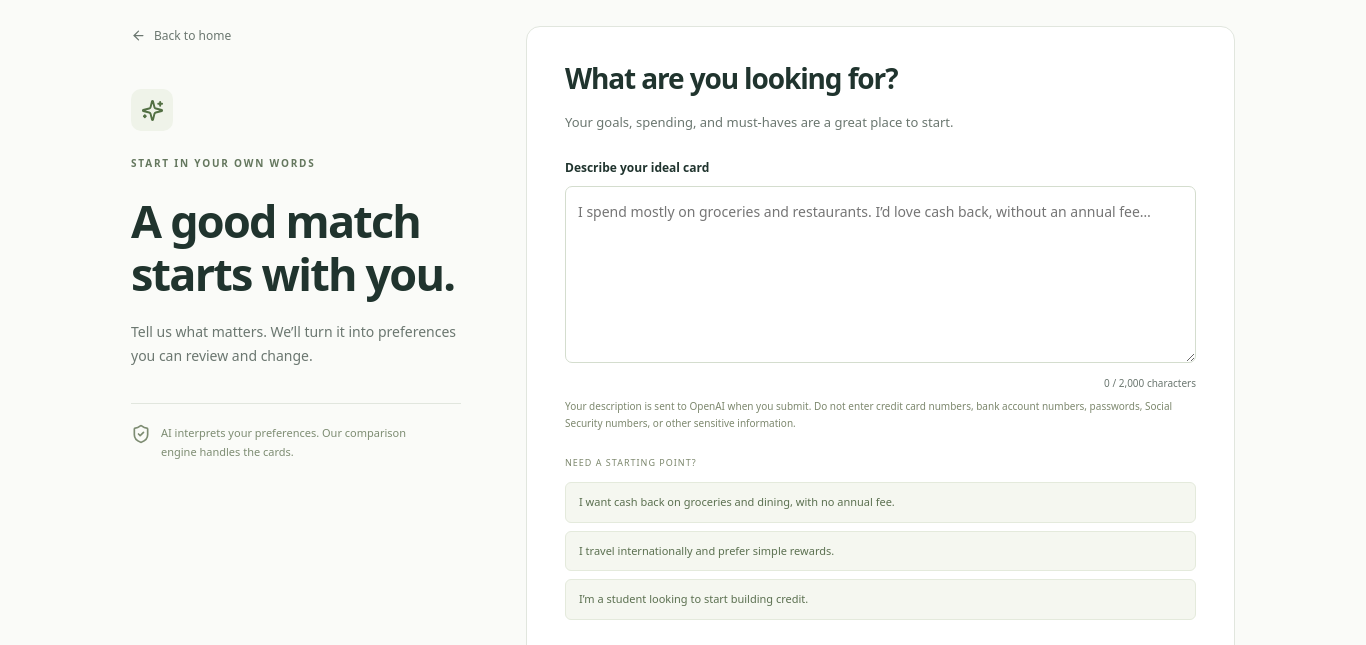
Test: provider error preserves the prompt and offers a fallback
Type "I want cash back and no annual fee" into the text box labelled "Describe your ideal card" at {"x": 880, "y": 274}, box [565,186,1196,363]
(page scrolled)
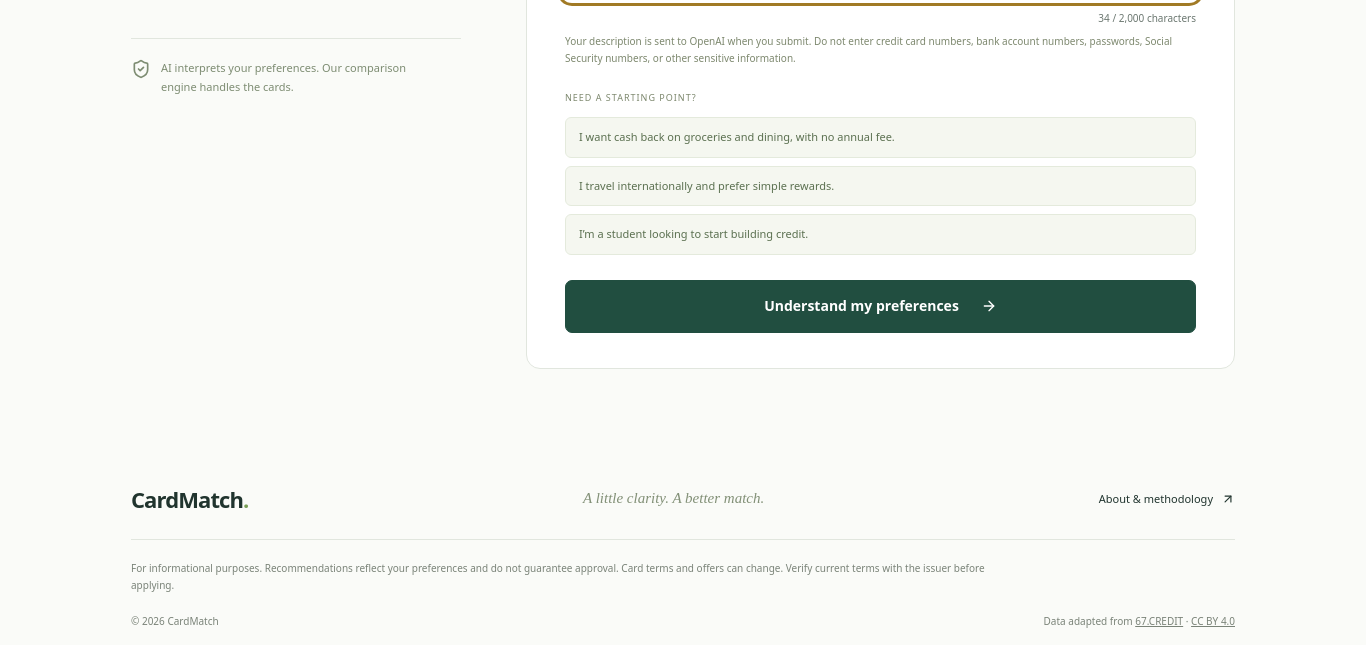
Click the button "Understand my preferences" at {"x": 880, "y": 306}, box [565,280,1196,333]
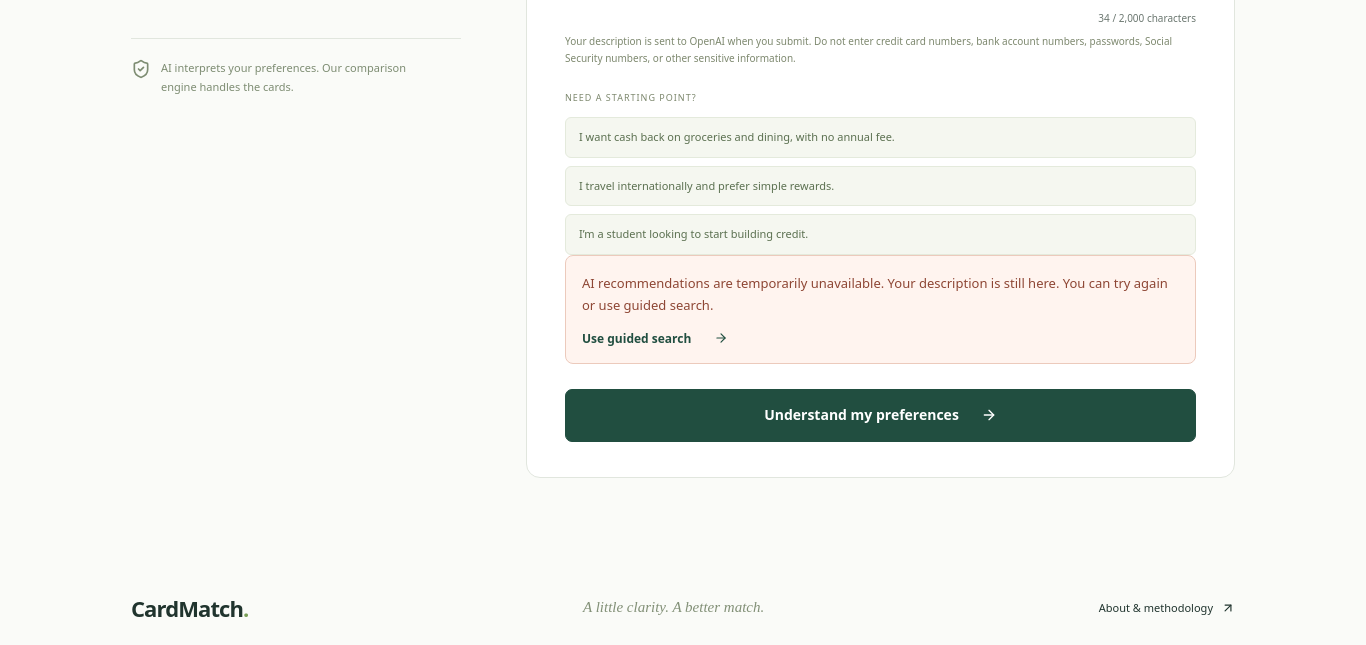
Result: the message shows "temporarily unavailable" at [582,274,1168,314]
